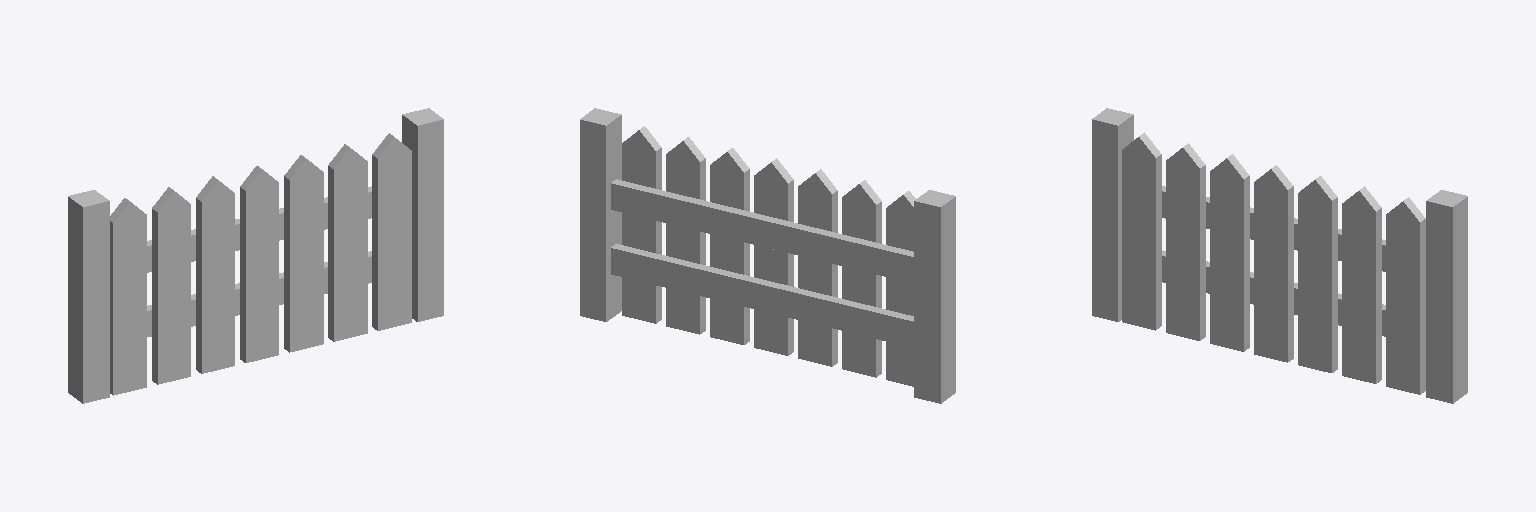
File: fench.obj
The picture shows the model from 3 angles: view 1: azimuth 30°, elevation 25°; view 2: azimuth 150°, elevation 25°; view 3: azimuth 330°, elevation 25°; orthographic projection.
Parts seen in each view (by area): view 1: Fence_Type2_03_mesh; view 2: Fence_Type2_03_mesh; view 3: Fence_Type2_03_mesh.
Part boxes in pixels (left/top/right/bottom): Fence_Type2_03_mesh: left=68, top=108, right=443, bottom=403; Fence_Type2_03_mesh: left=580, top=108, right=955, bottom=403; Fence_Type2_03_mesh: left=1092, top=108, right=1467, bottom=403.
Size of the model in its own units: 266 by 139 by 19.82.